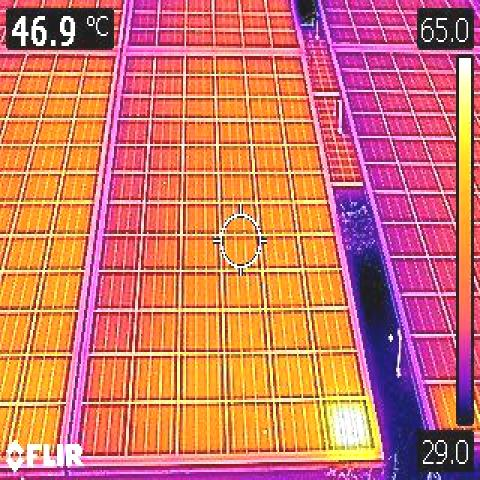fault: (321, 401, 376, 452)
